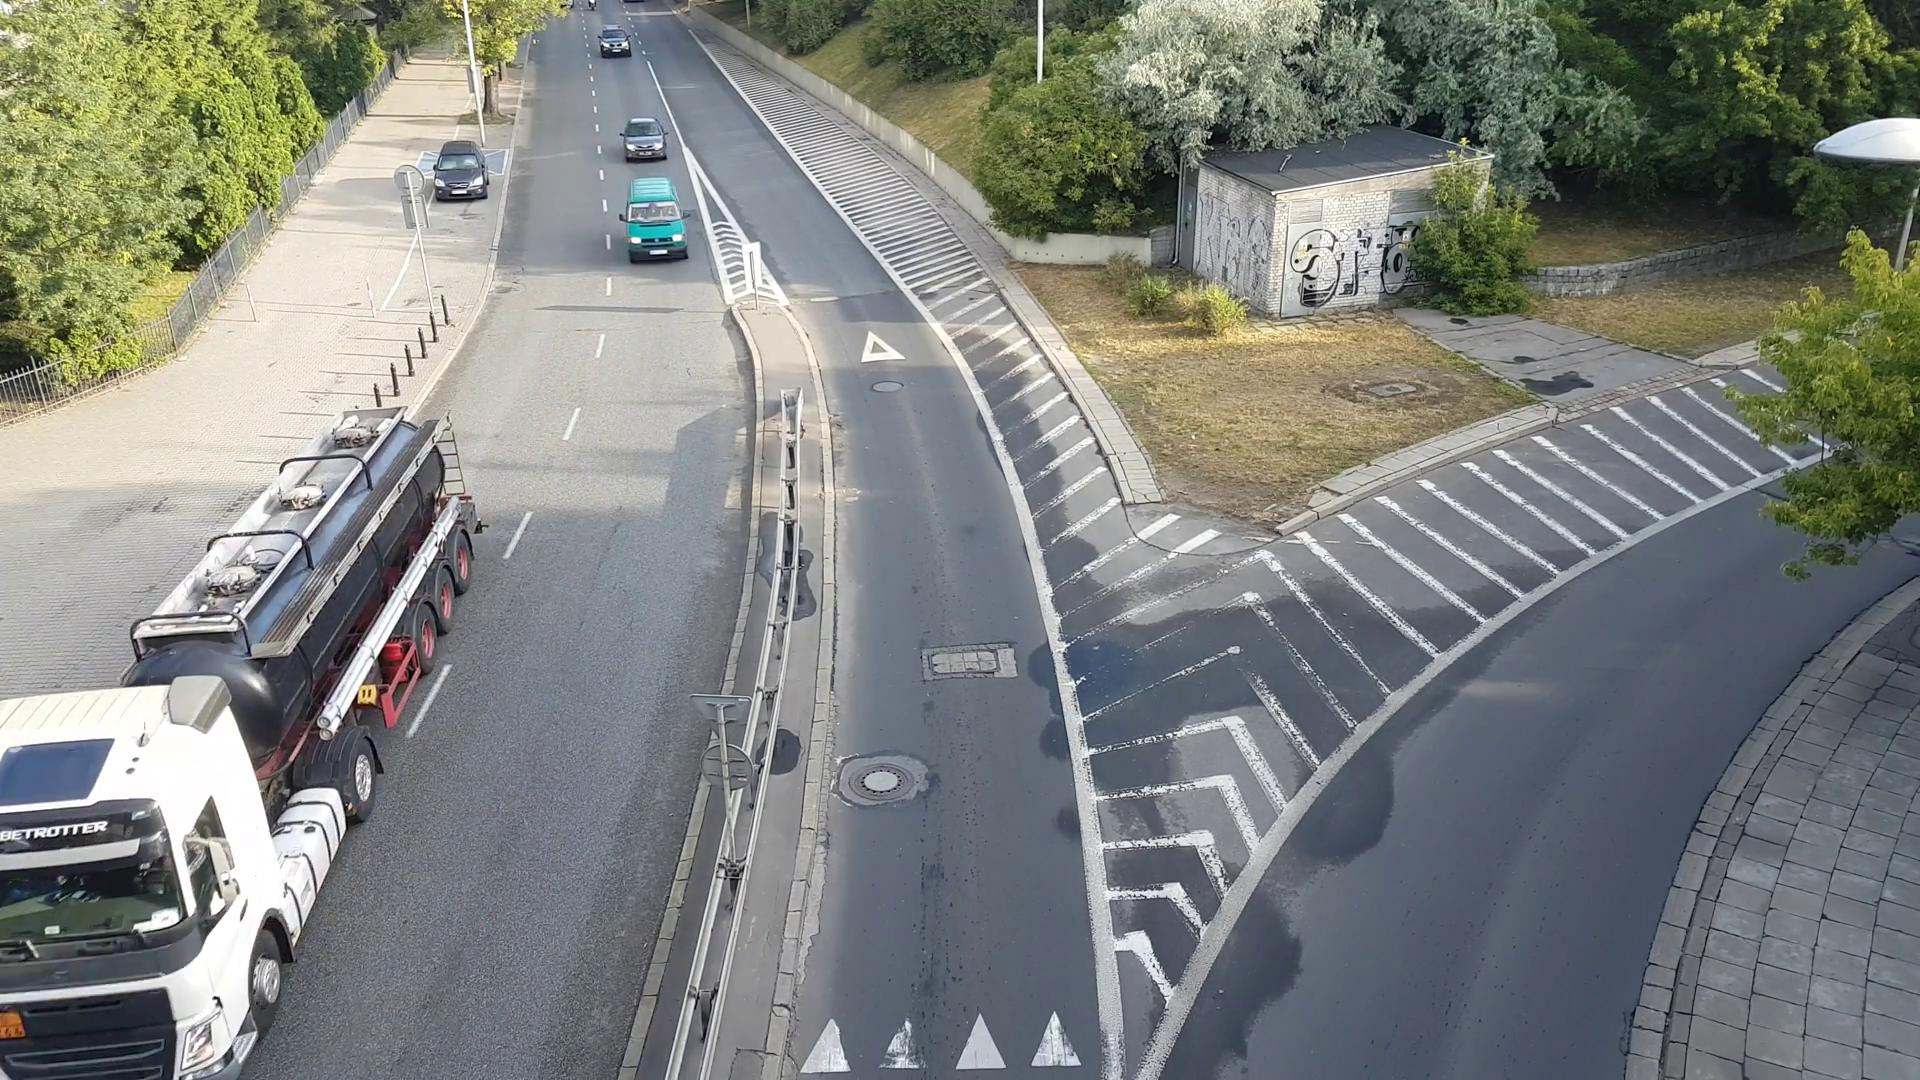car: (616, 173, 692, 262), (427, 135, 496, 203), (616, 107, 673, 166), (596, 20, 633, 53)
truck: (4, 386, 496, 1064)
